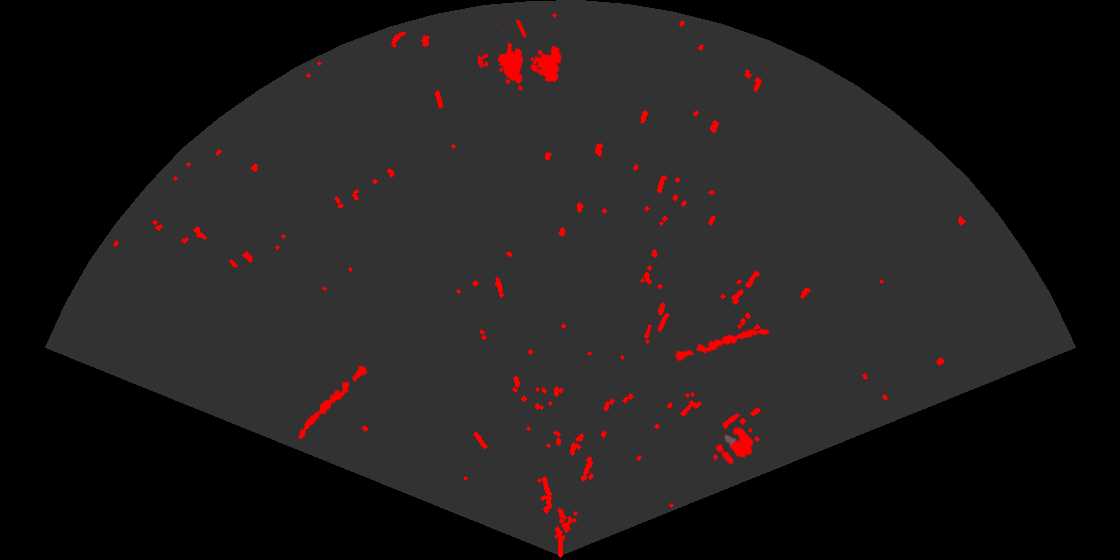ball: (714, 425, 755, 466)
cage: (480, 20, 563, 92)
chain: (297, 364, 369, 441), (672, 327, 771, 363)
